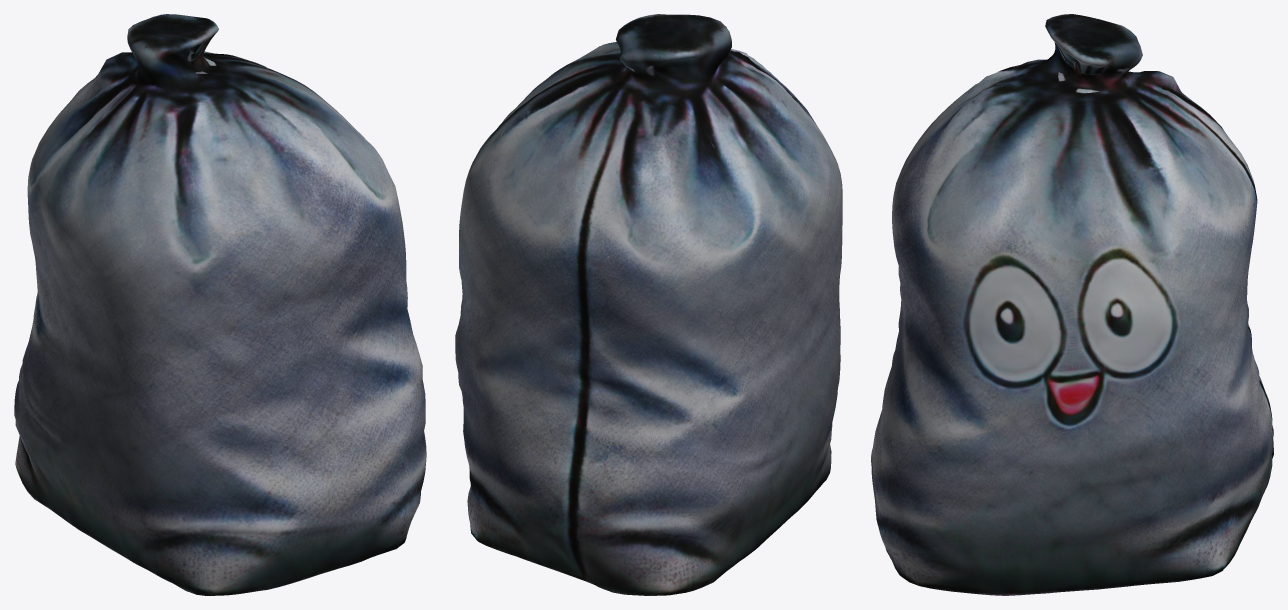
Rendered from 27c41145ac4c_cartoon_style_bag_o.fbx.
The picture shows the model from 3 angles, left to right: view 1: azimuth 30°, elevation 25°; view 2: azimuth 150°, elevation 25°; view 3: azimuth 270°, elevation 25°; orthographic projection. The views are drawn at different scales.
Parts seen in each view (by area): view 1: mesh; view 2: mesh; view 3: mesh.
Part boxes in pixels (x1,y1,x2,y2): mesh: [14, 14, 426, 595]; mesh: [455, 14, 842, 595]; mesh: [871, 14, 1273, 595].
Bounding box in the file's own units: 66.23 × 99.88 × 73.4.
